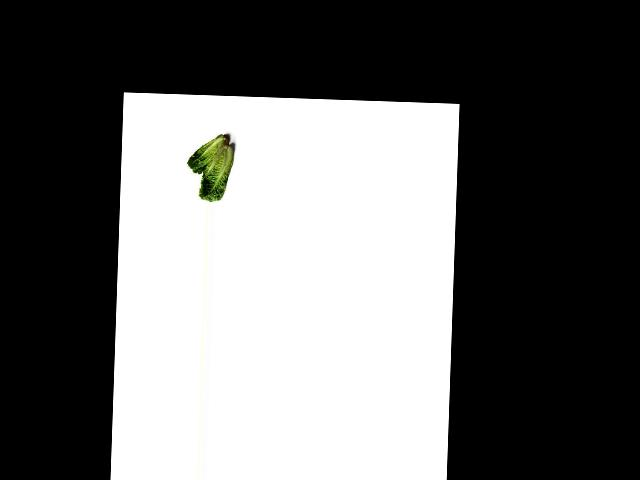lettuce: (186, 130, 231, 175)
